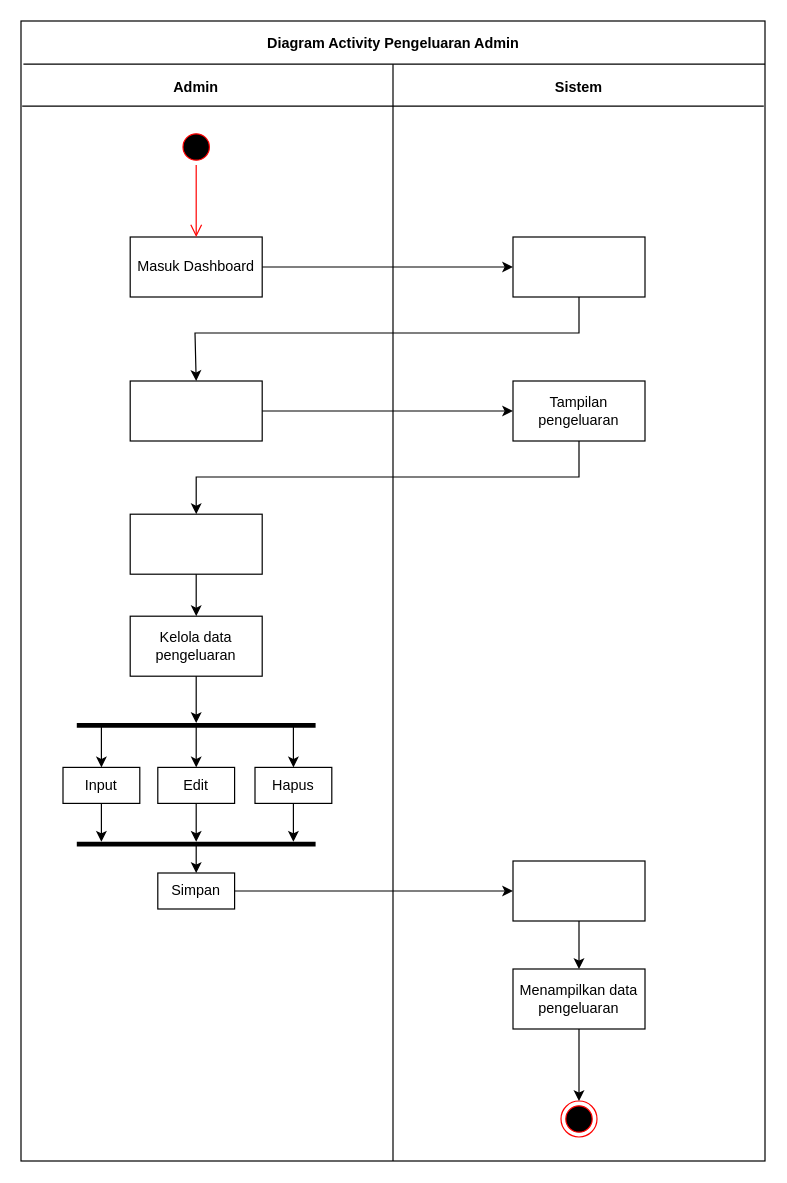
Image size: 787x1183. Some labels were removed from this diagram. The shapes that lost their labels are listed below. From the top down, each one's centre as x and y in pixels, then its label:
the point at 578,266: Tampilan Dashboard
the point at 195,410: Memilih menu pengeluaran
the point at 195,543: Melihat data pengeluaran
the point at 578,890: Menyimpan data
